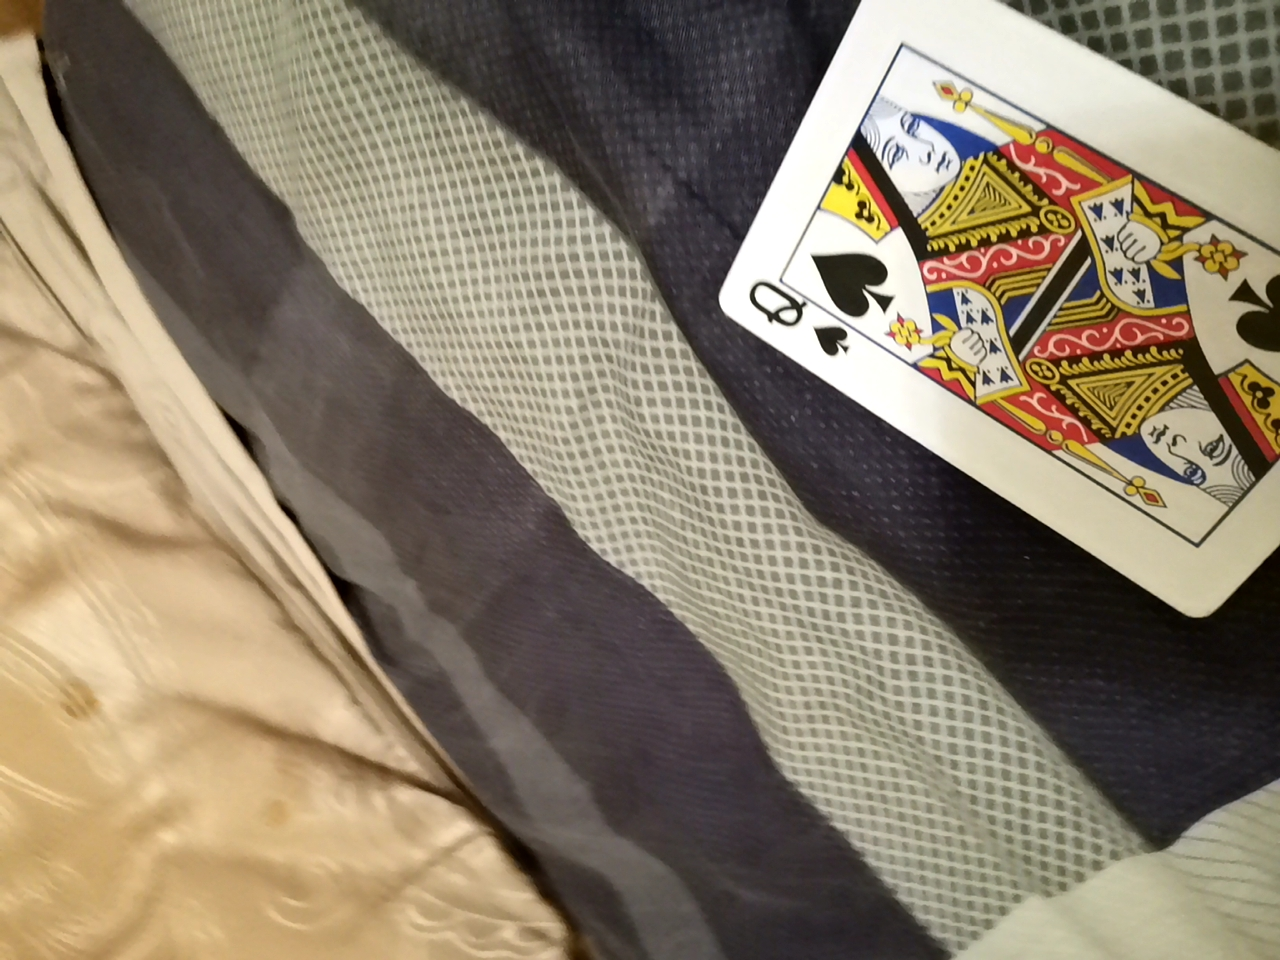ht q: (675, 7, 1272, 642)
